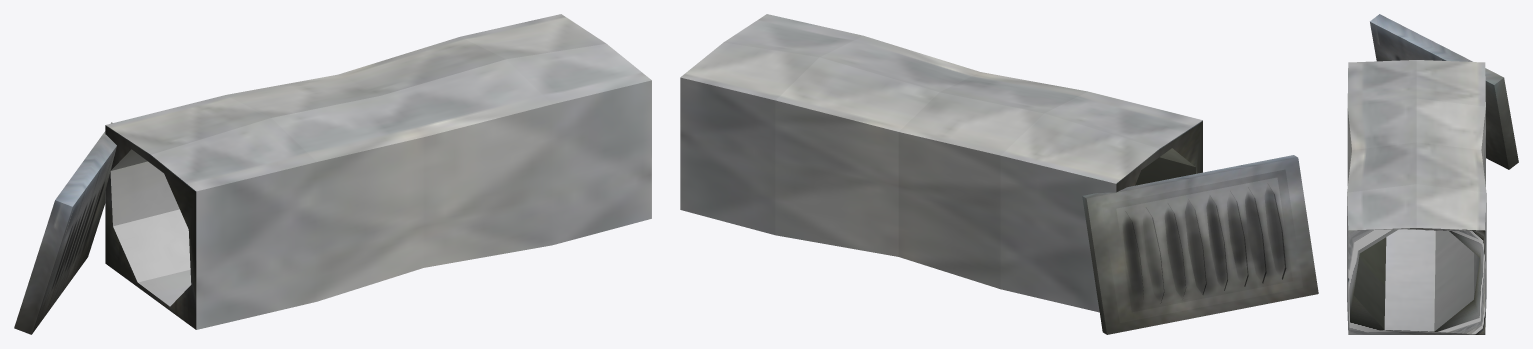
3 renders of one model, left to right at view 1: azimuth 30°, elevation 25°; view 2: azimuth 150°, elevation 25°; view 3: azimuth 270°, elevation 25°, orthographic. The views are drawn at different scales.
Visible parts, largest first — view 1: Tube, Vent; view 2: Tube, Vent; view 3: Tube, Vent.
Boxes of the visible parts, x1,y1,x2,y2 form: Tube: (105,14,651,329); Vent: (14,122,116,334); Tube: (680,14,1202,312); Vent: (1082,155,1318,334); Tube: (1347,60,1486,334); Vent: (1370,14,1518,169).
Size of the model in its own units: 0.173 by 0.0558 by 0.0429.
2 materials, 2 textured.
